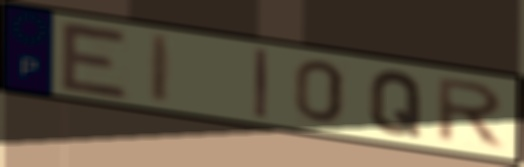0: (291, 57, 351, 127)
E: (57, 18, 132, 102)
I: (148, 32, 176, 107), (252, 46, 271, 121)
Q: (366, 69, 426, 140)
R: (432, 76, 509, 151)
